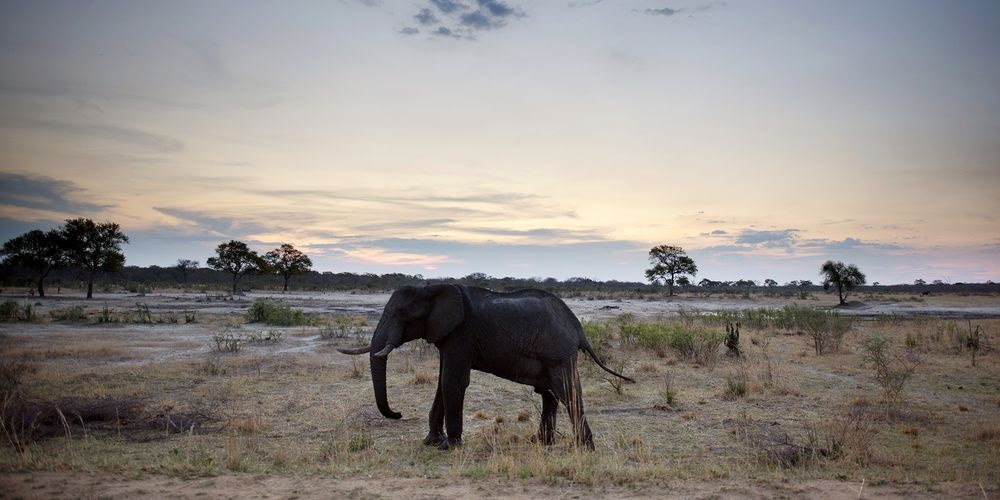elephant: (328, 279, 602, 453)
